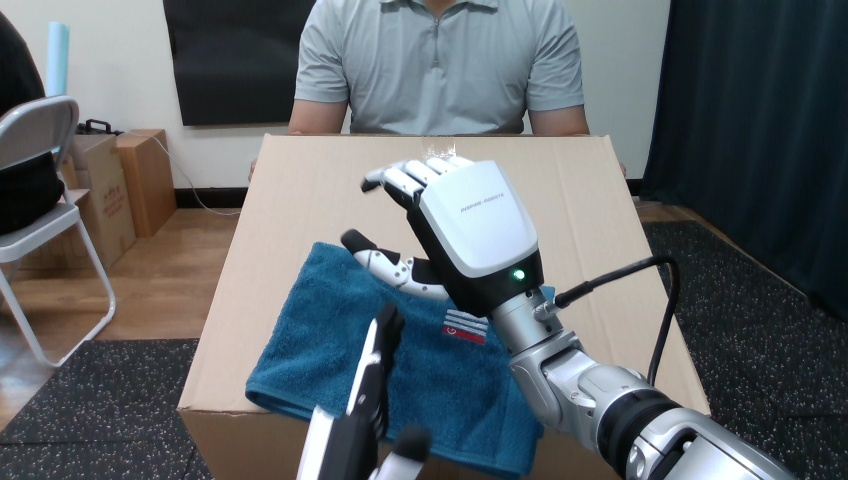left robot hand: (341, 156, 792, 479), (556, 263, 672, 377)
